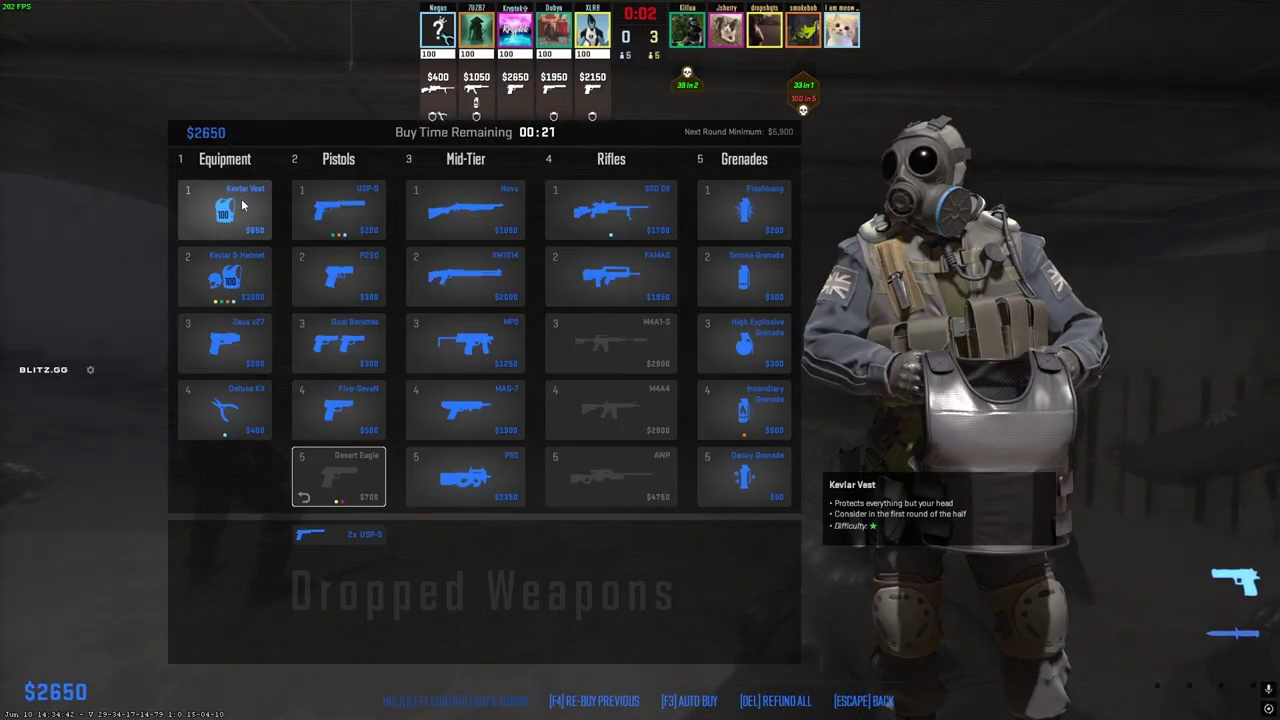CT: (849, 121, 1082, 720)
